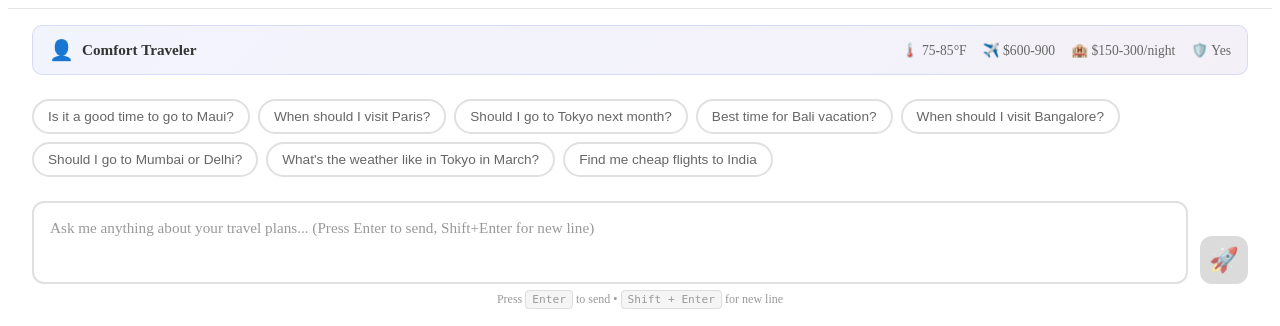
Test: ChatInput Component › Disabled State › enables send button when input has text
Replace the text in the text box with placeholder "Ask me anything about your travel plans" with "Test" at (610, 242), box [32,201,1188,284]
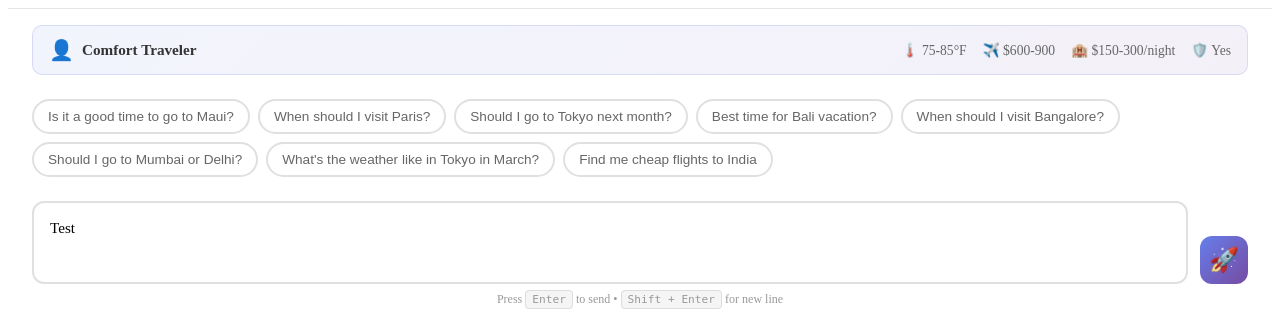
Check: the button "🚀" is enabled, box [1200,236,1248,284]
